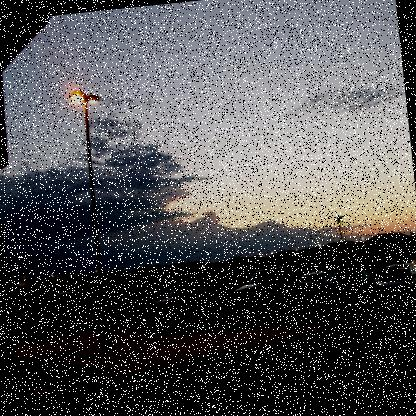Car: (232, 265, 306, 313), (152, 284, 212, 318), (370, 262, 415, 306), (324, 268, 380, 300), (292, 271, 336, 304), (51, 290, 85, 313)
